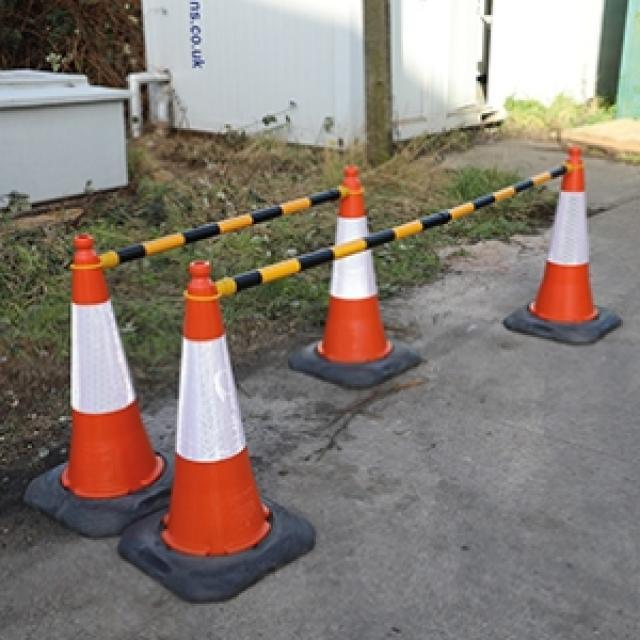traffic cone: (22, 229, 172, 538), (158, 261, 275, 557), (288, 165, 422, 389), (503, 147, 622, 345)
